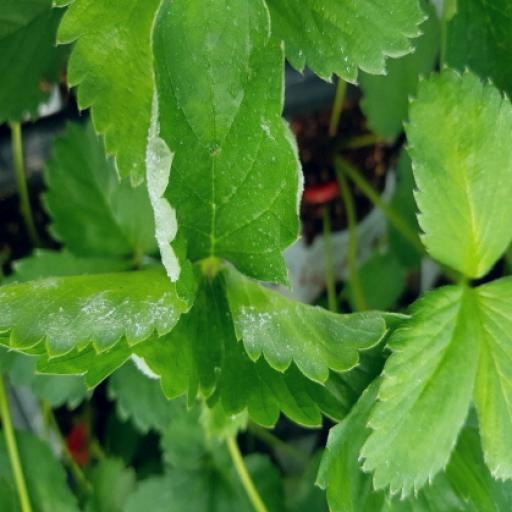Powdery Mildew Leaf: (206, 202, 369, 511), (97, 83, 310, 250), (287, 101, 511, 246)
